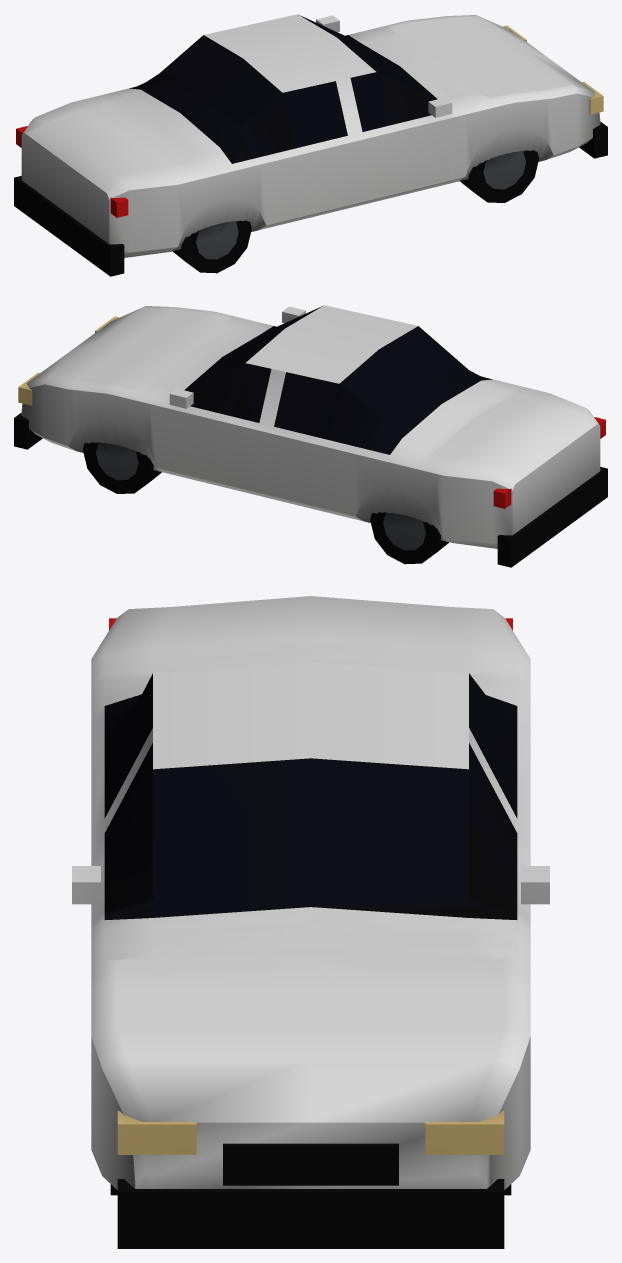
Rendered from sedan.glb.
3 views of the same model, one above another, from view 1: azimuth 30°, elevation 25°; view 2: azimuth 150°, elevation 25°; view 3: azimuth 270°, elevation 25° (orthographic). The views are drawn at different scales.
Visible parts, largest first — view 1: paint, detail; view 2: paint, detail; view 3: paint, detail.
Boxes of the visible parts, <box> form: paint: <box>21,14,600,257</box>; detail: <box>14,15,607,276</box>; paint: <box>21,305,600,548</box>; detail: <box>14,306,607,567</box>; paint: <box>72,596,549,1189</box>; detail: <box>104,618,517,1248</box>.
Bounding box in the file's own units: 1.57 × 0.4818 × 0.6534.
